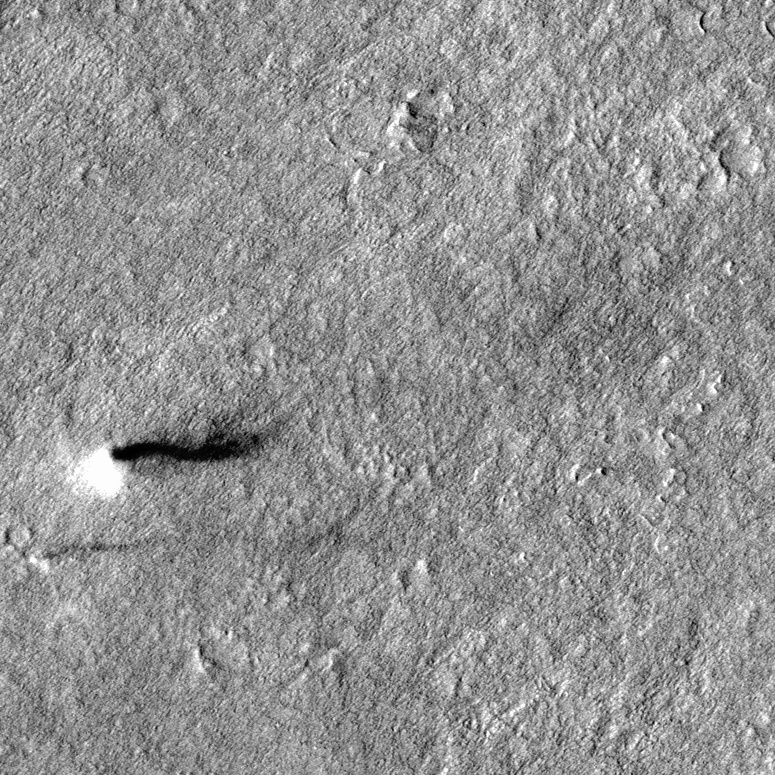dust_devil: (75, 426, 269, 504), (28, 539, 142, 575)
